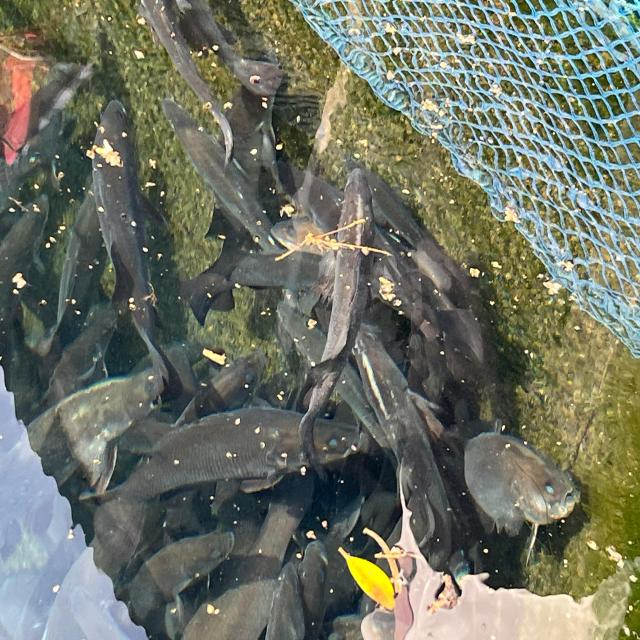ikan: (78, 404, 368, 506), (290, 125, 400, 360), (86, 98, 174, 390), (25, 362, 165, 497), (463, 428, 581, 566)
